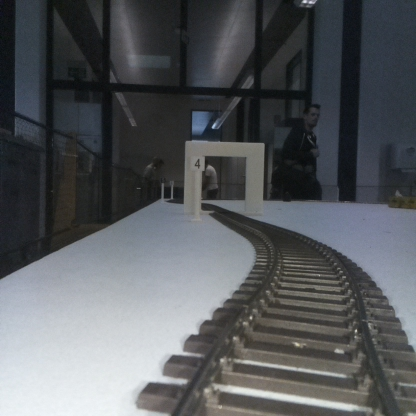white-info-4: (191, 154, 204, 219)
